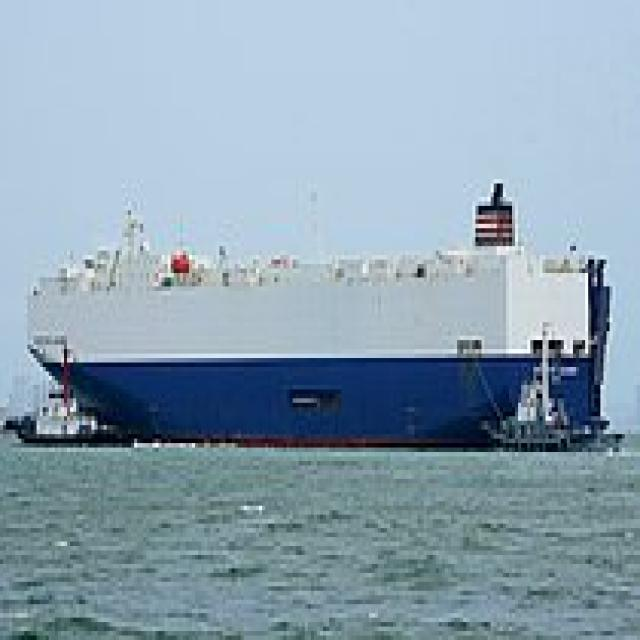Carrier: (18, 170, 610, 448)
